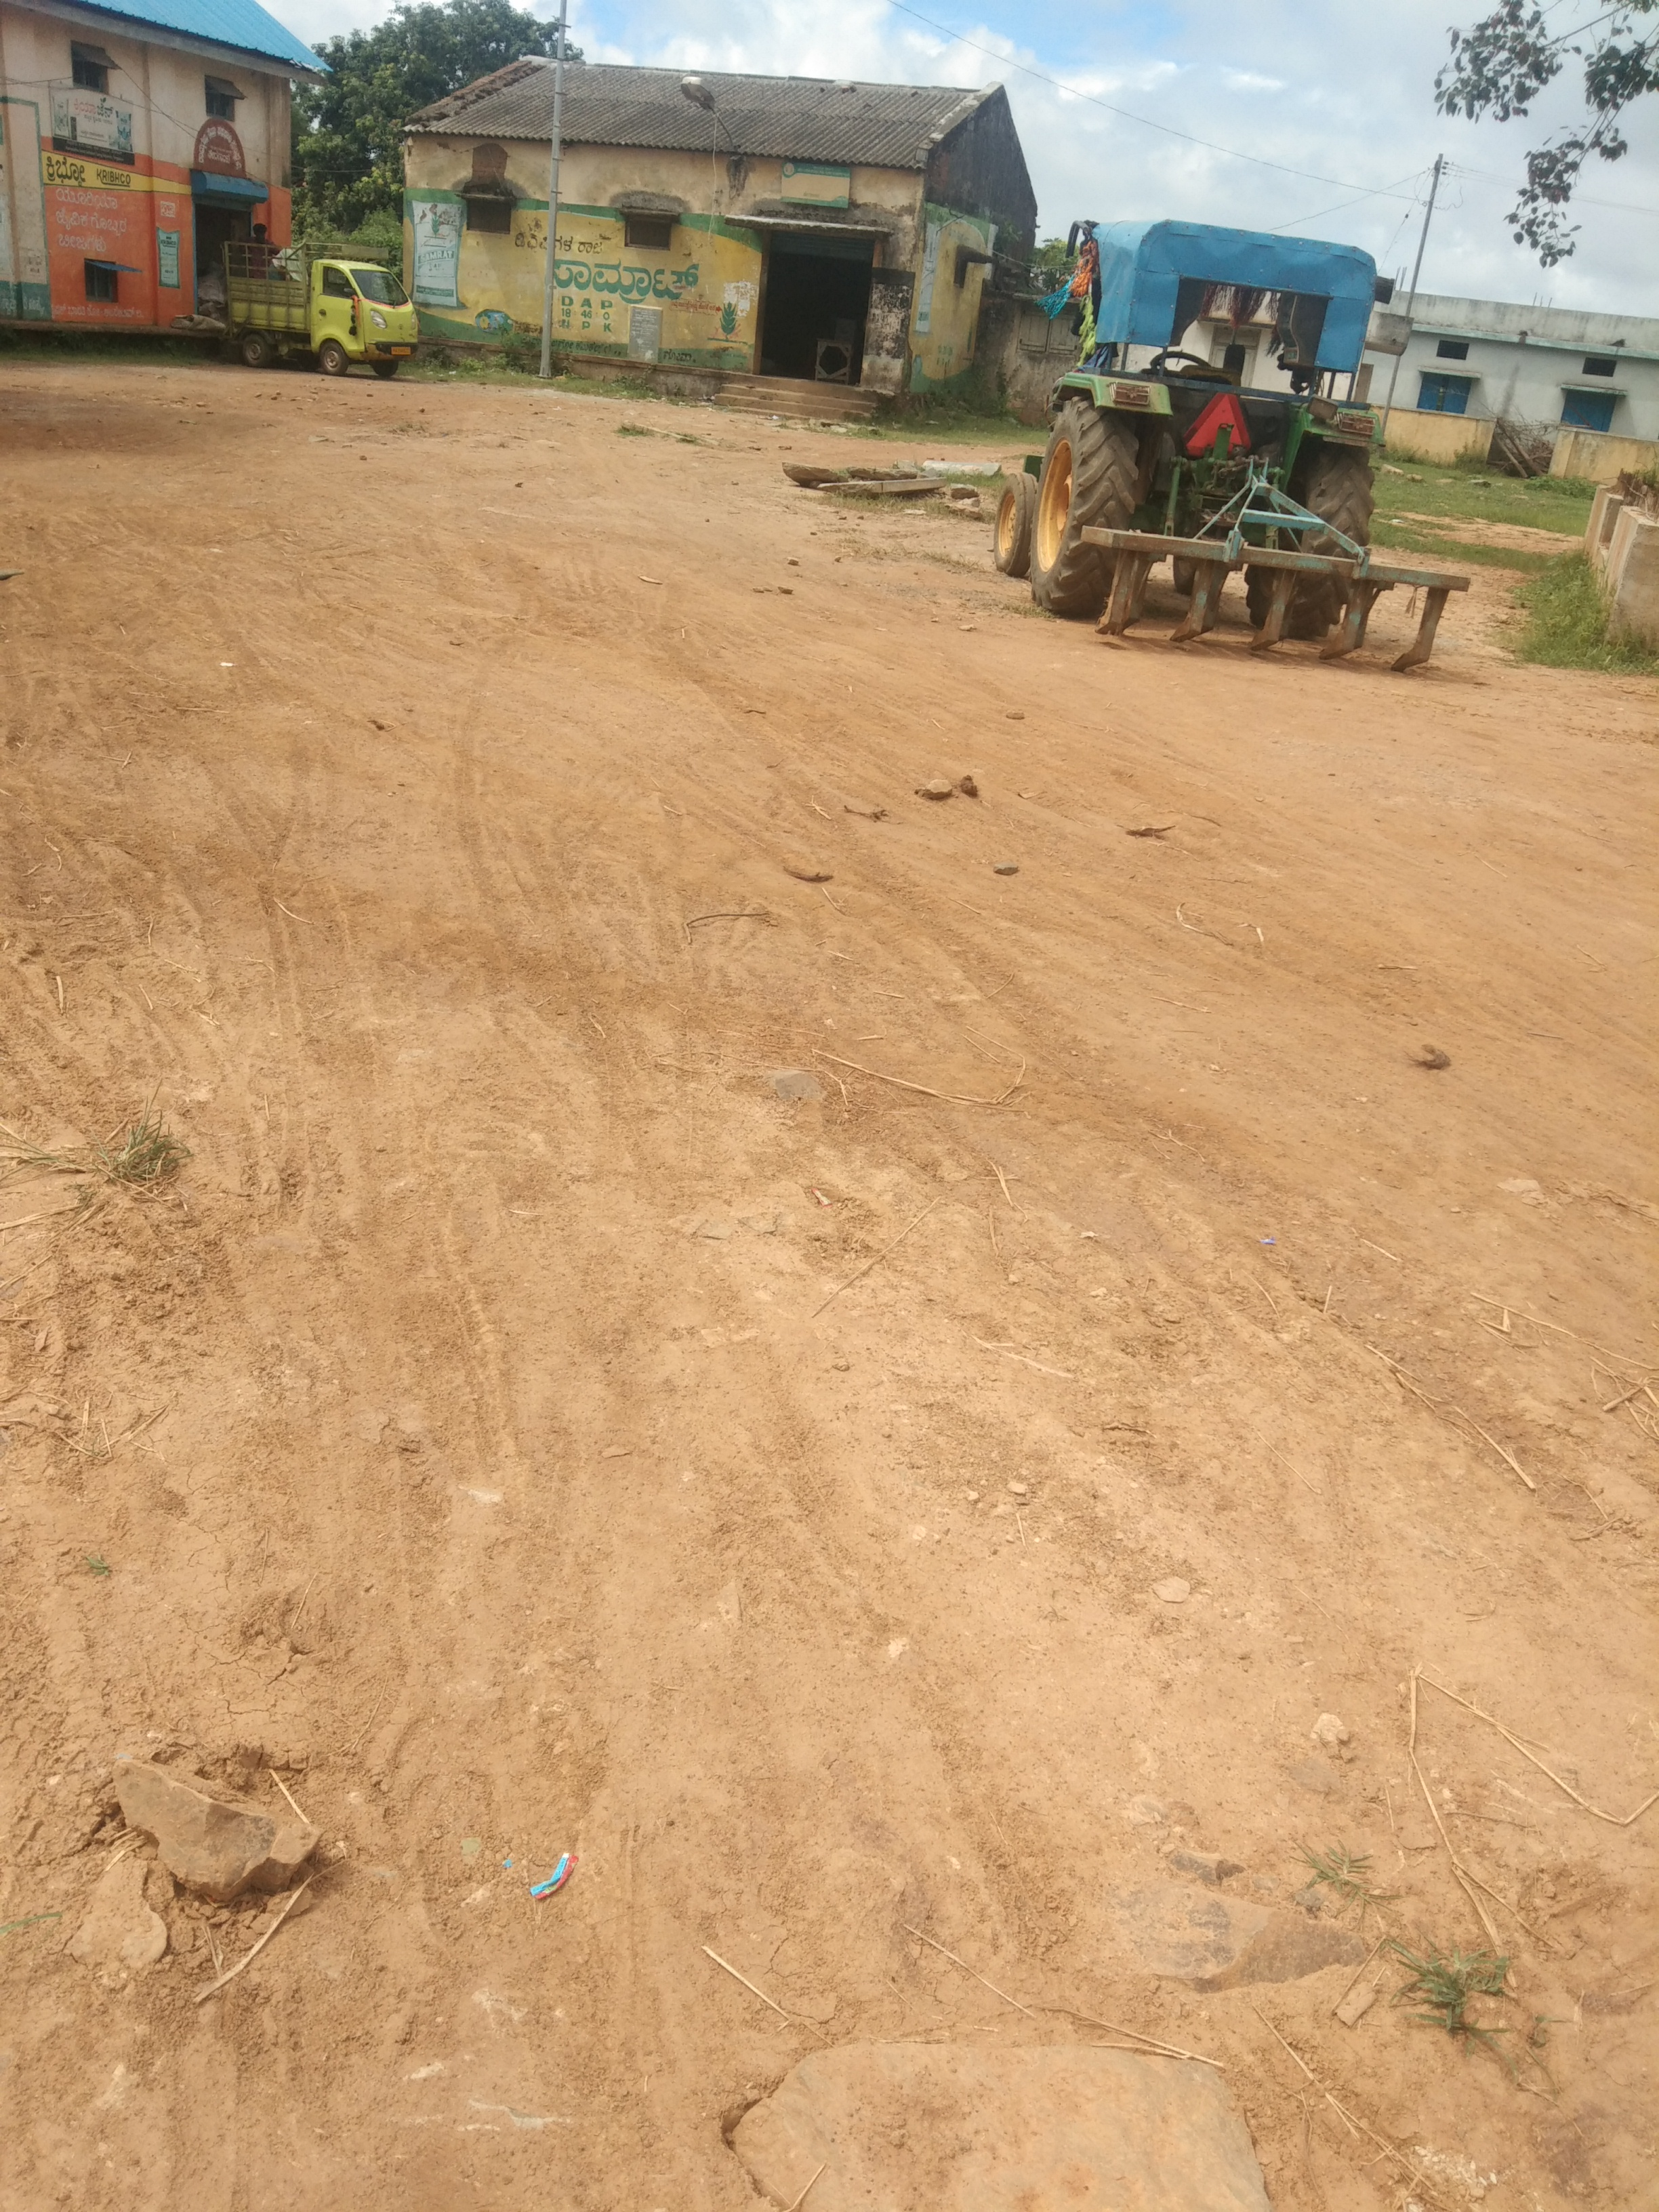truck: (992, 214, 1474, 674)
